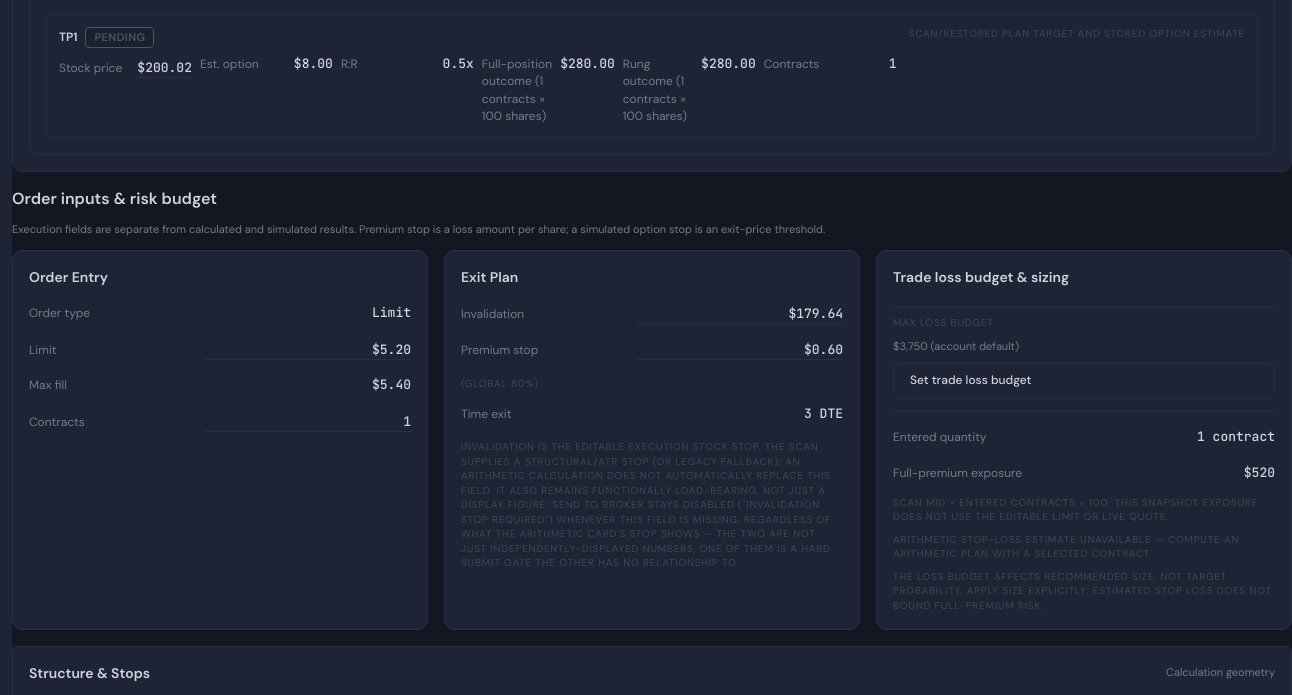
Scenario: P2-19 -- the untouched Premium stop follows the live mid, not the stale scan seed › a bare focus-and-blur writes nothing (premiumStop stays untouched)
(page scrolled)
Click the button named "Edit Premium stop" at x=740, y=349, box [637,338,843,360]
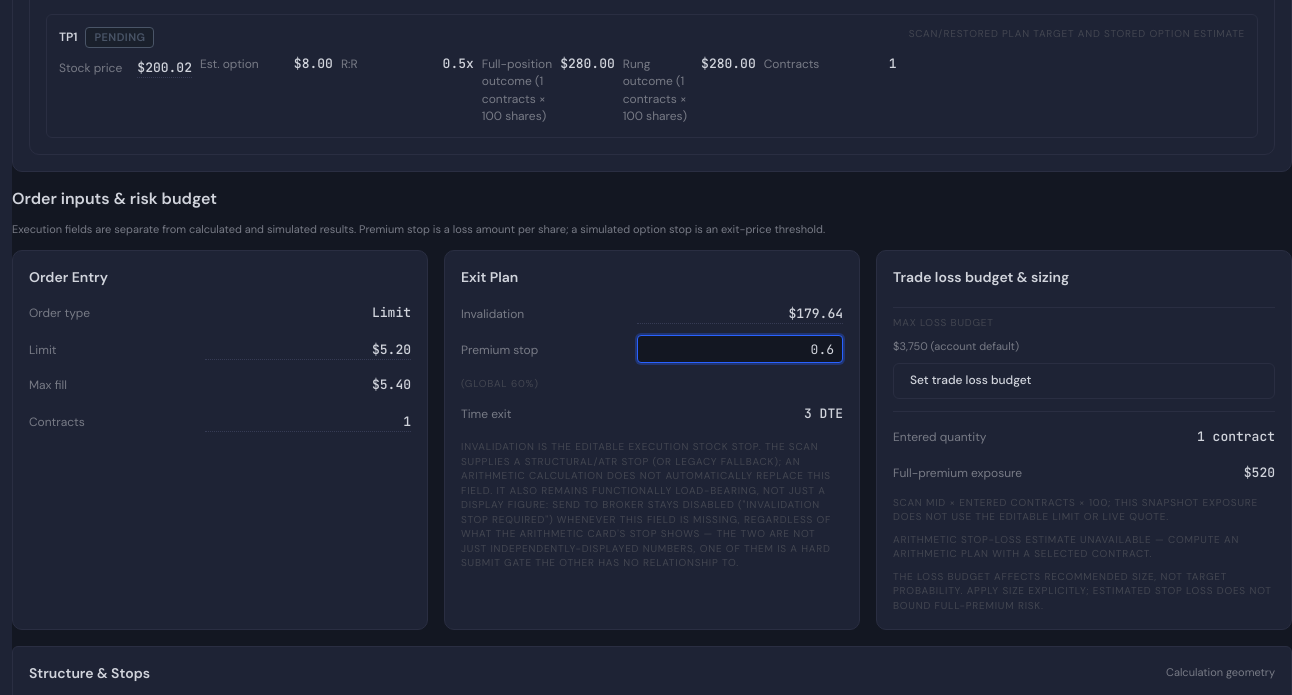
Leave the field named "Edit Premium stop", box [637,335,843,363]
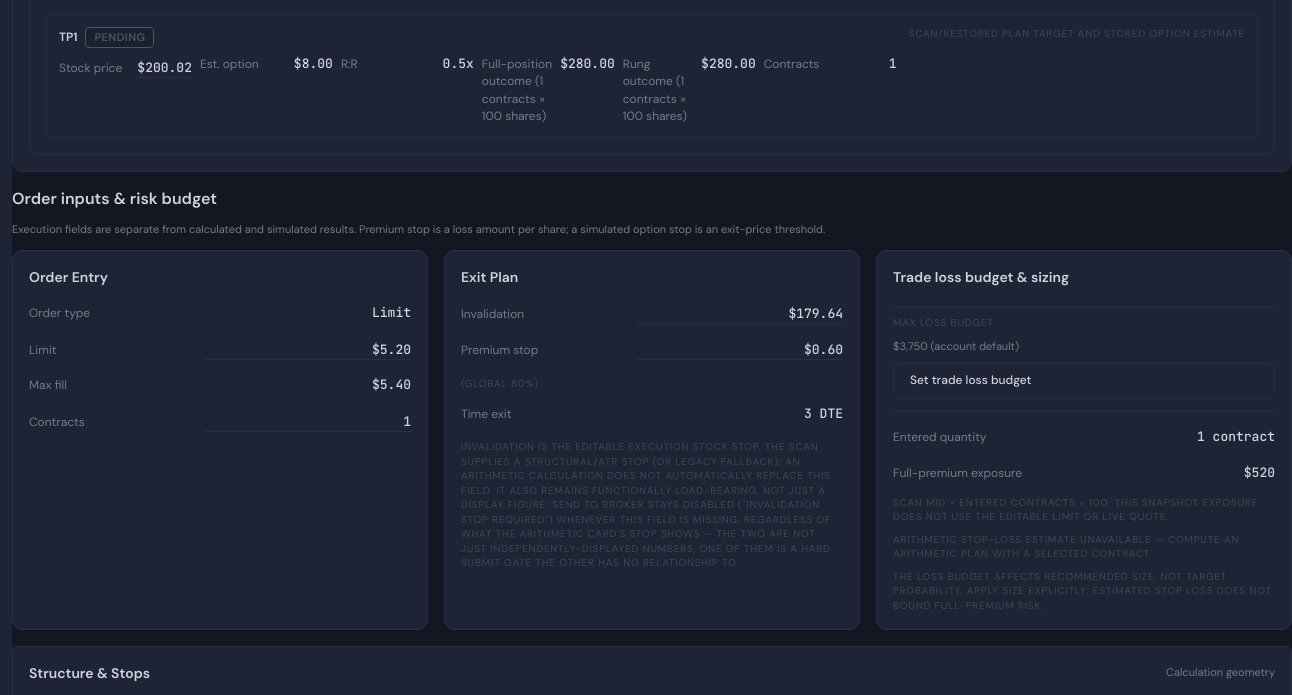
Expected: the button named "Edit Premium stop" reads "$0.60", [637,338,843,360]
